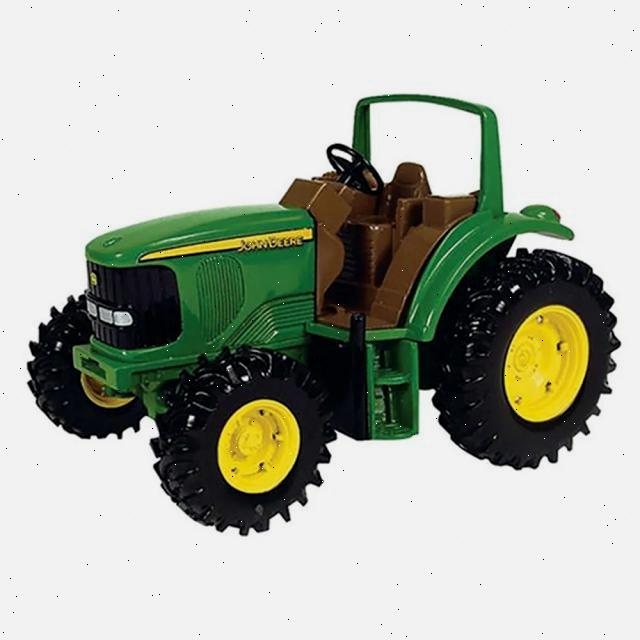Tratores - v5 YOLO V8L 2024-11-13: (25, 86, 624, 541)
